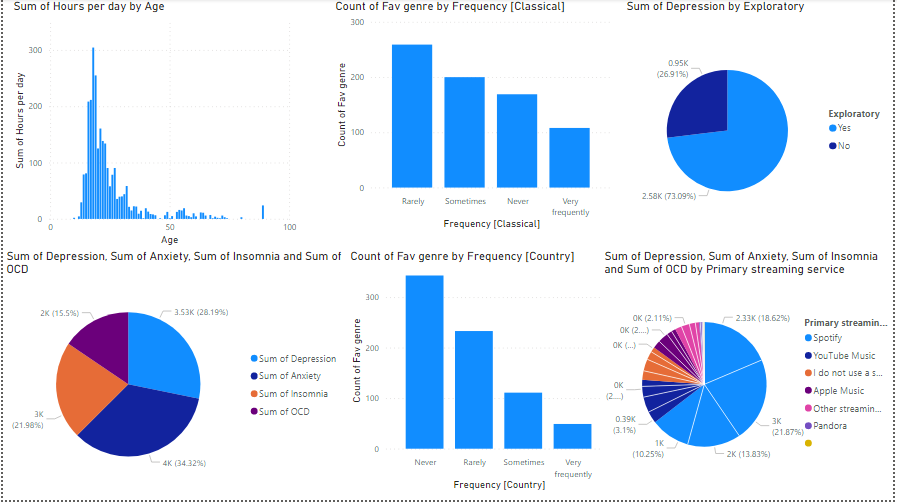

This screenshot's page, from the dashboard's own definition file:
{"tool":"powerbi","page":{"name":"Page 1","canvas":[1280,720],"ordinal":0},"visuals":[{"type":"clusteredColumnChart","fields":{"Category":["Music_and_Mental_Health_-_Survey.Age"],"Y":["Sum(Music_and_Mental_Health_-_Survey.Hours per day)"]},"box":[10.1,0,416.6,359.5],"z":0},{"type":"pieChart","fields":{"Y":["Sum(Music_and_Mental_Health_-_Survey.Depression)","Sum(Music_and_Mental_Health_-_Survey.Anxiety)","Sum(Music_and_Mental_Health_-_Survey.Insomnia)","Sum(Music_and_Mental_Health_-_Survey.OCD)"]},"box":[0,359.5,493.9,351.1],"z":1000},{"type":"lineStackedColumnComboChart","fields":{"Category":["Music_and_Mental_Health_-_Survey.Frequency [Classical]"],"Y":["CountNonNull(Music_and_Mental_Health_-_Survey.Fav genre)"]},"box":[472.8,0,408.1,334.9],"z":2000},{"type":"clusteredColumnChart","fields":{"Y":["CountNonNull(Music_and_Mental_Health_-_Survey.Fav genre)"],"Category":["Music_and_Mental_Health_-_Survey.Frequency [Country]"]},"box":[494,359,387,351],"z":3000},{"type":"pieChart","fields":{"Y":["Sum(Music_and_Mental_Health_-_Survey.Depression)"],"Category":["Music_and_Mental_Health_-_Survey.Exploratory"]},"box":[891,0,389.5,359.3],"z":4000},{"type":"pieChart","fields":{"Category":["Music_and_Mental_Health_-_Survey.Primary streaming service"],"Y":["Sum(Music_and_Mental_Health_-_Survey.Depression)","Sum(Music_and_Mental_Health_-_Survey.Anxiety)","Sum(Music_and_Mental_Health_-_Survey.Insomnia)","Sum(Music_and_Mental_Health_-_Survey.OCD)"]},"box":[859.4,359.3,421.1,350.7],"z":5000}]}

Visuals, with their boxes in screenshot pixels (x1, y1, x2, y2), scaled from the page's 1280x720 canvas onto the 897x504 screenshot:
clusteredColumnChart - Music_and_Mental_Health_-_Survey.Age x Sum(Music_and_Mental_Health_-_Survey.Hours per day): (7, 0, 299, 252)
pieChart - Sum(Music_and_Mental_Health_-_Survey.Depression) x Sum(Music_and_Mental_Health_-_Survey.Anxiety): (0, 252, 346, 497)
lineStackedColumnComboChart - Music_and_Mental_Health_-_Survey.Frequency [Classical] x CountNonNull(Music_and_Mental_Health_-_Survey.Fav genre): (331, 0, 617, 234)
clusteredColumnChart - CountNonNull(Music_and_Mental_Health_-_Survey.Fav genre) x Music_and_Mental_Health_-_Survey.Frequency [Country]: (346, 251, 617, 497)
pieChart - Sum(Music_and_Mental_Health_-_Survey.Depression) x Music_and_Mental_Health_-_Survey.Exploratory: (624, 0, 896, 252)
pieChart - Music_and_Mental_Health_-_Survey.Primary streaming service x Sum(Music_and_Mental_Health_-_Survey.Depression): (602, 252, 896, 497)
